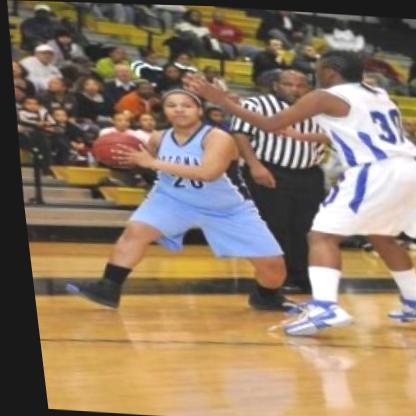basketball: (84, 125, 145, 174)
